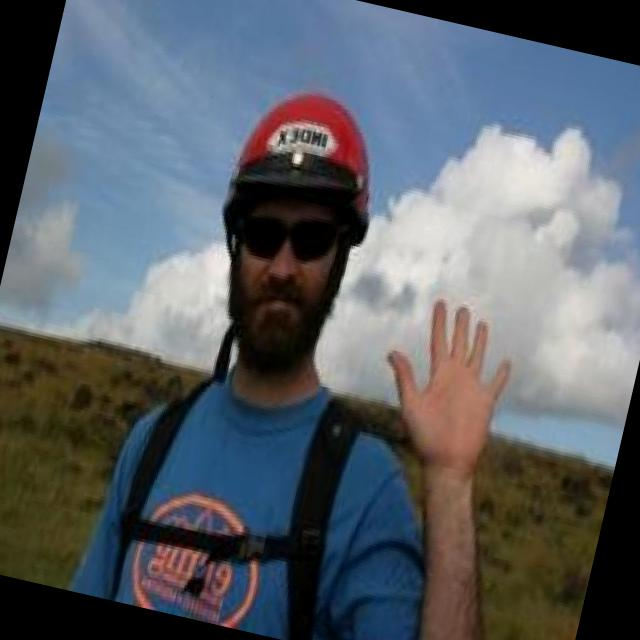no_vest: (64, 337, 438, 640)
